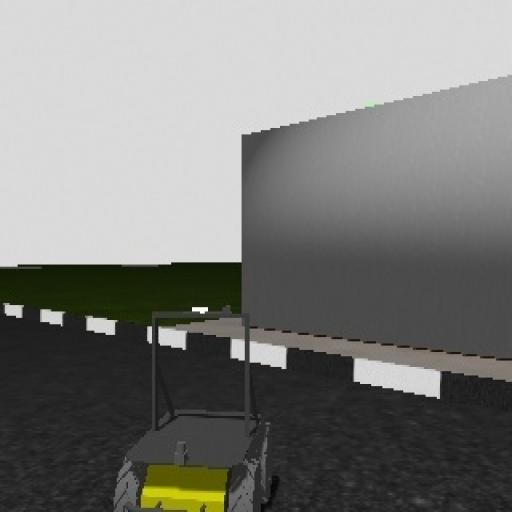huskya200: (104, 292, 276, 512)
